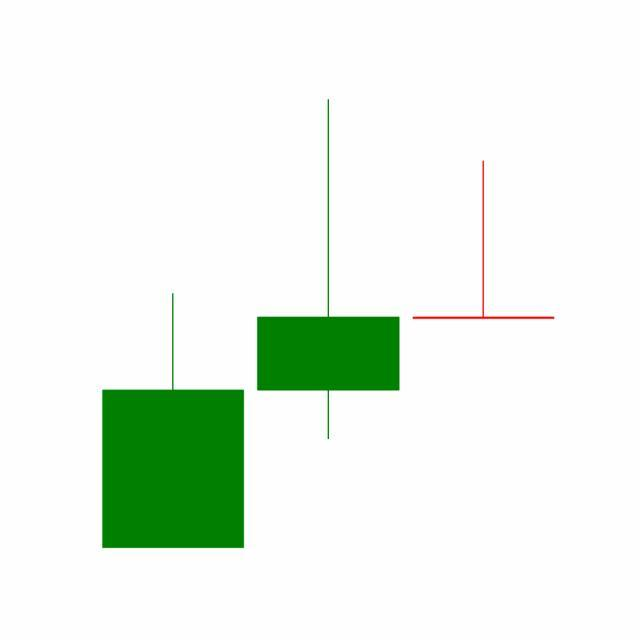Gravestone Doji: (406, 159, 562, 321)
